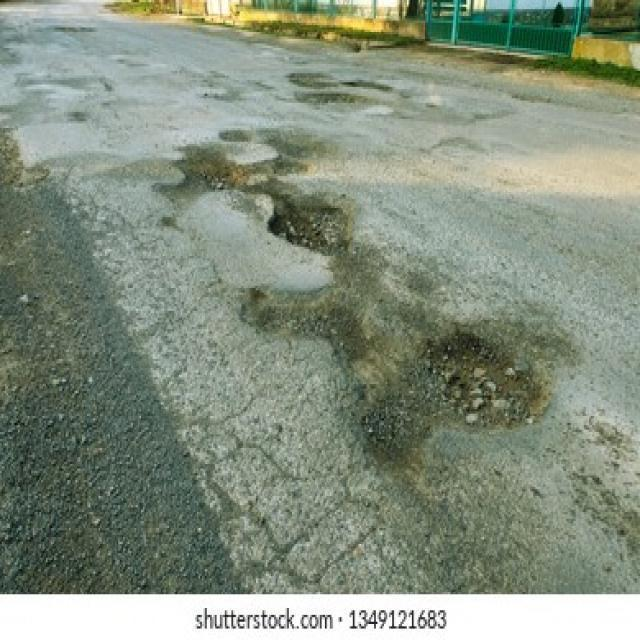Pothole: (237, 192, 552, 473), (155, 150, 315, 210), (294, 91, 367, 105)
